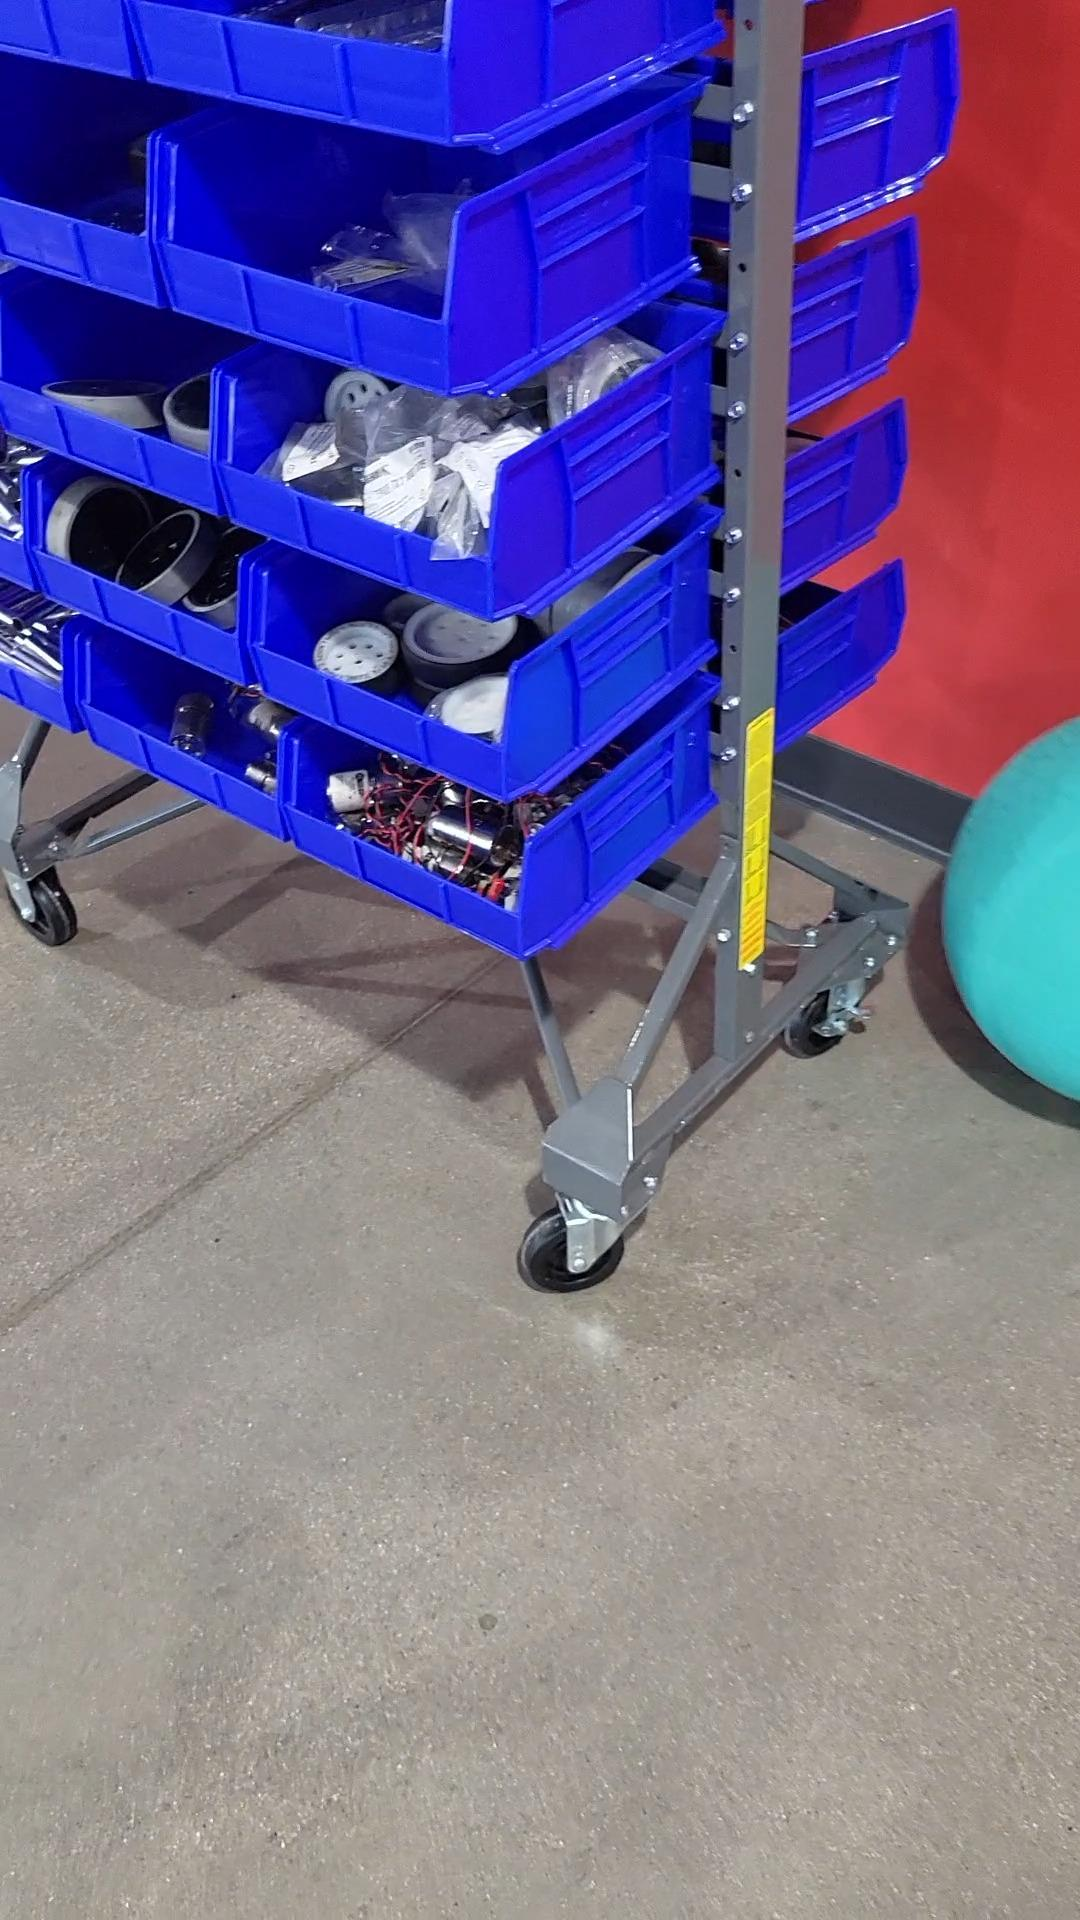algae: (942, 705, 1080, 1105)
